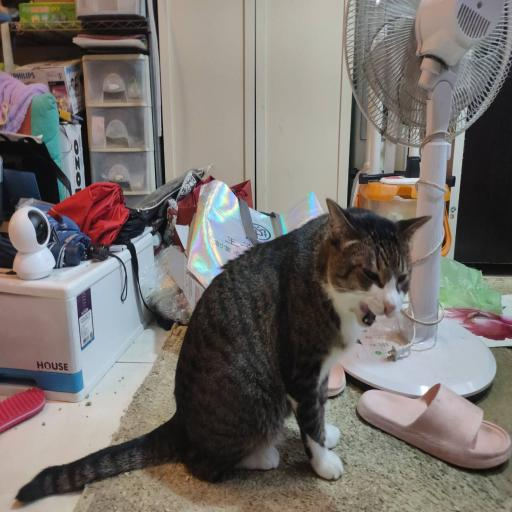cat: (130, 214, 408, 480)
